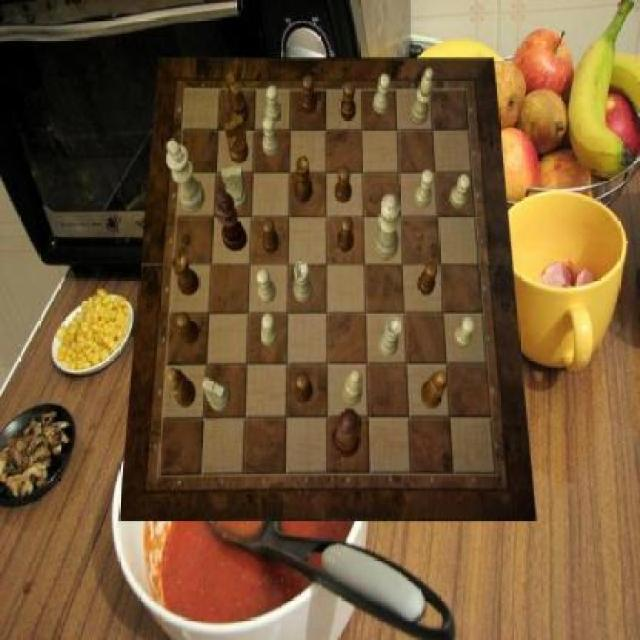bishop: (169, 368, 197, 408), (420, 371, 447, 408)
black-bishop: (214, 188, 248, 252)
black-king: (225, 117, 249, 165), (226, 74, 249, 124)
black-knight: (176, 310, 200, 344), (417, 262, 438, 296), (302, 76, 318, 116), (340, 83, 356, 122), (337, 217, 354, 253), (263, 219, 280, 253), (336, 166, 352, 202), (294, 374, 313, 404)
black-pawn: (332, 409, 362, 458)
black-queen: (172, 254, 200, 295), (294, 157, 313, 205)
black-rook: (411, 66, 434, 124), (342, 369, 362, 407)
white-bishop: (167, 138, 206, 212)
white-king: (223, 166, 249, 210), (202, 377, 230, 411)
white-knight: (414, 169, 434, 207), (451, 174, 472, 208), (374, 74, 391, 115), (263, 117, 280, 157), (257, 269, 276, 304), (266, 86, 283, 124), (454, 317, 474, 349), (260, 314, 278, 348)
white-pawn: (374, 194, 401, 260)
white-queen: (378, 317, 402, 357), (294, 260, 314, 302)
